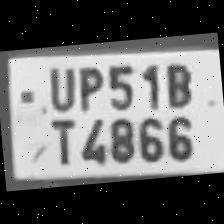1: (132, 58, 162, 110)
4: (74, 111, 110, 167)
5: (99, 59, 136, 110)
6: (161, 110, 196, 163), (132, 113, 166, 163)
8: (105, 112, 136, 164)
B: (158, 57, 195, 108)
P: (71, 62, 106, 113)
T: (43, 112, 78, 166)
U: (41, 62, 76, 113)
